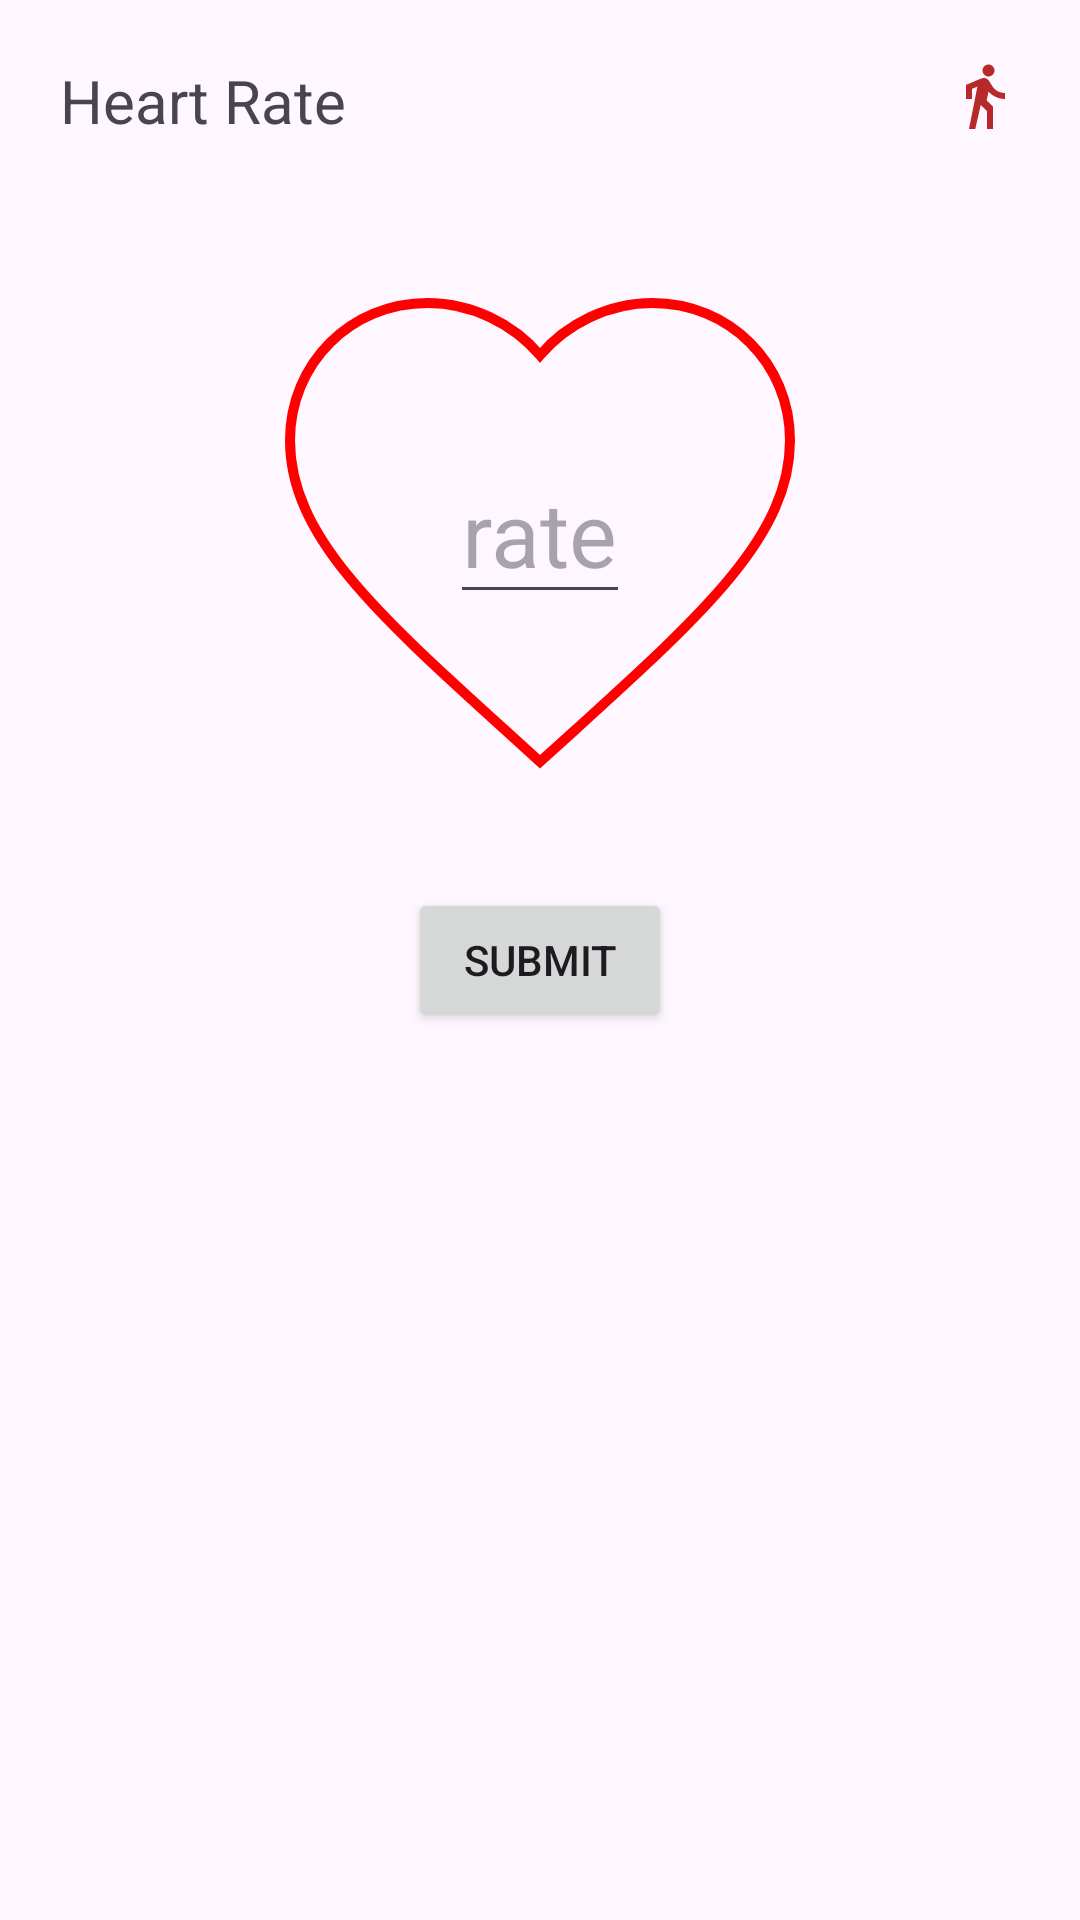

Icon bounding boxes for this 1080px x 1920px phone screenshot, format detection(x1, y1, x2, y2):
step counter: detection(966, 64, 1005, 129)
